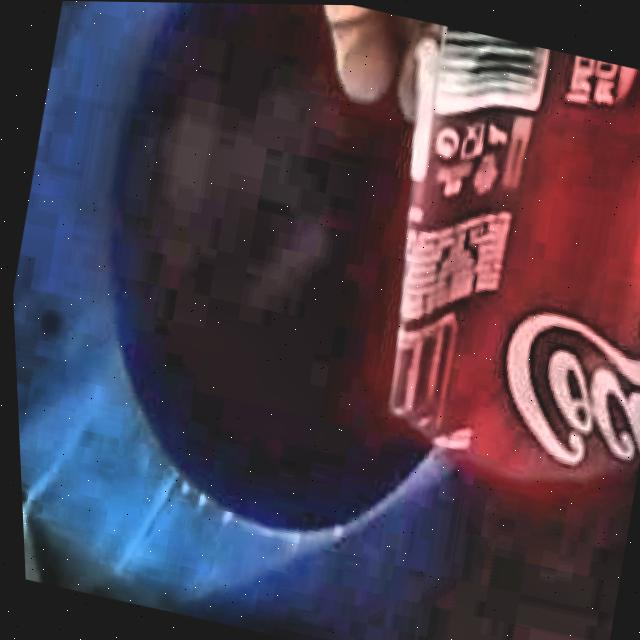metal: (384, 23, 640, 480)
